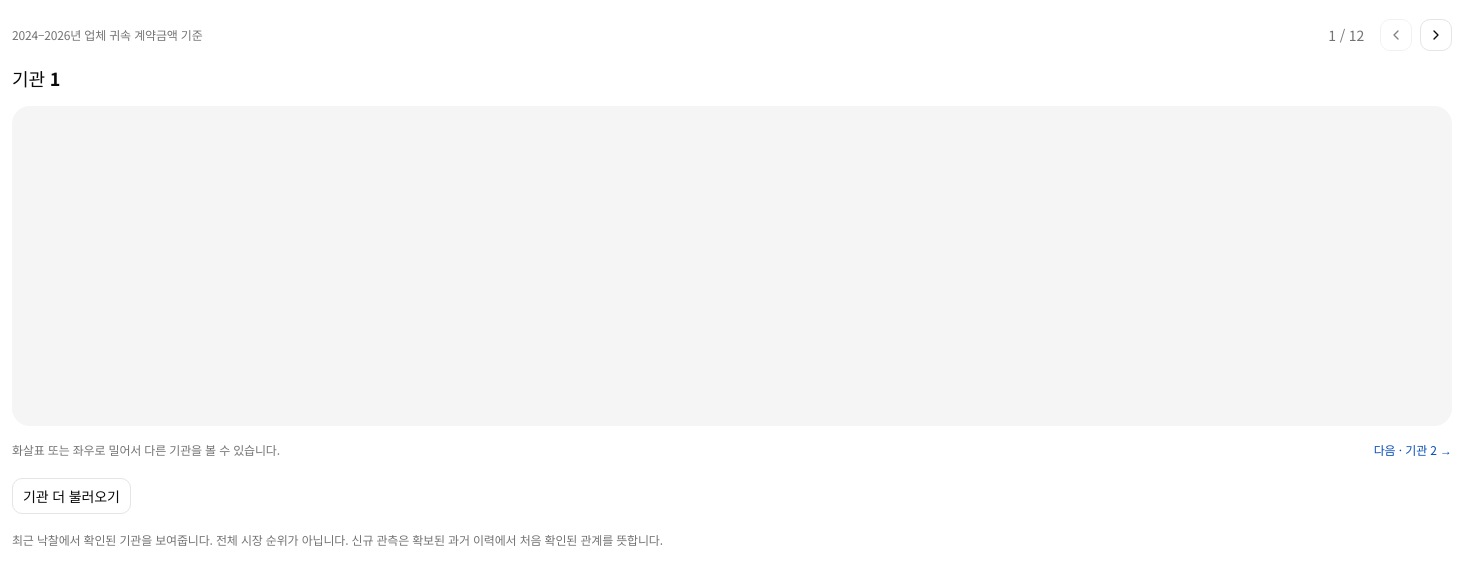
Scenario: 기관 목록은 먼저 보여주고 현재 기관의 맵만 로딩한다
Expected: the heading "기관 1" is shown, [12, 65, 60, 91]
Expected: the message reads "1 / 12", [1328, 25, 1364, 45]
Click the button named "다음 기관" at (1436, 35), box [1420, 19, 1452, 51]
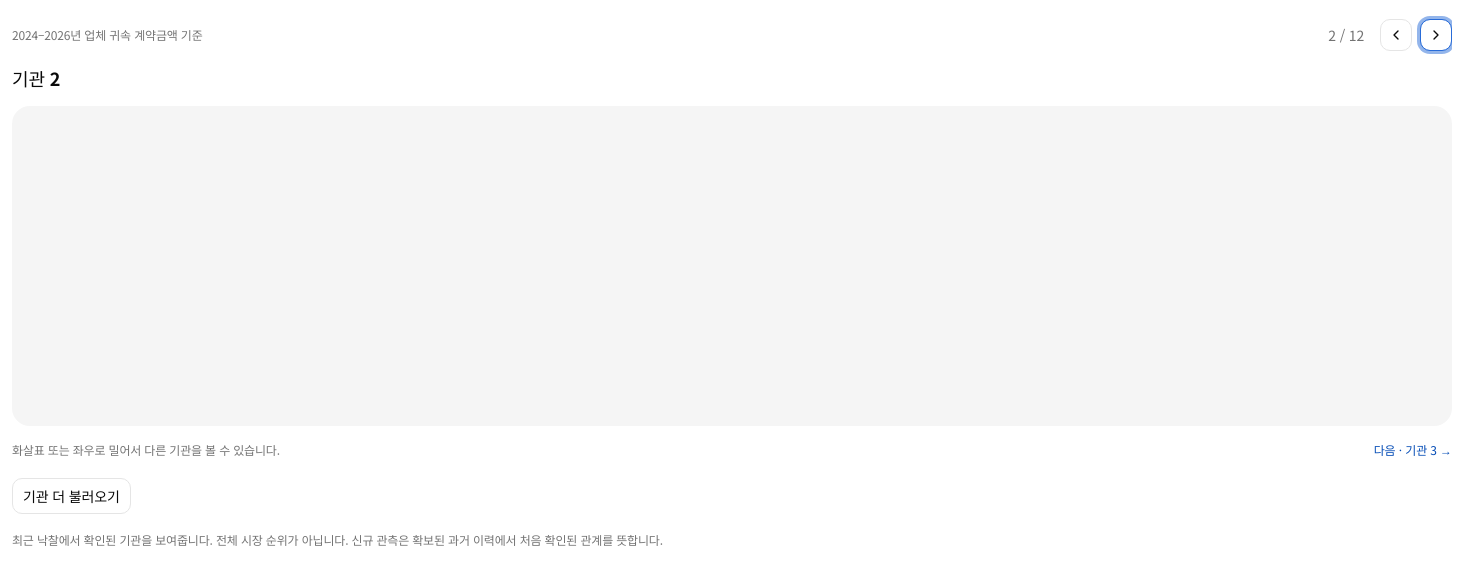
Now the heading "기관 2" is shown, box [12, 65, 60, 91]
